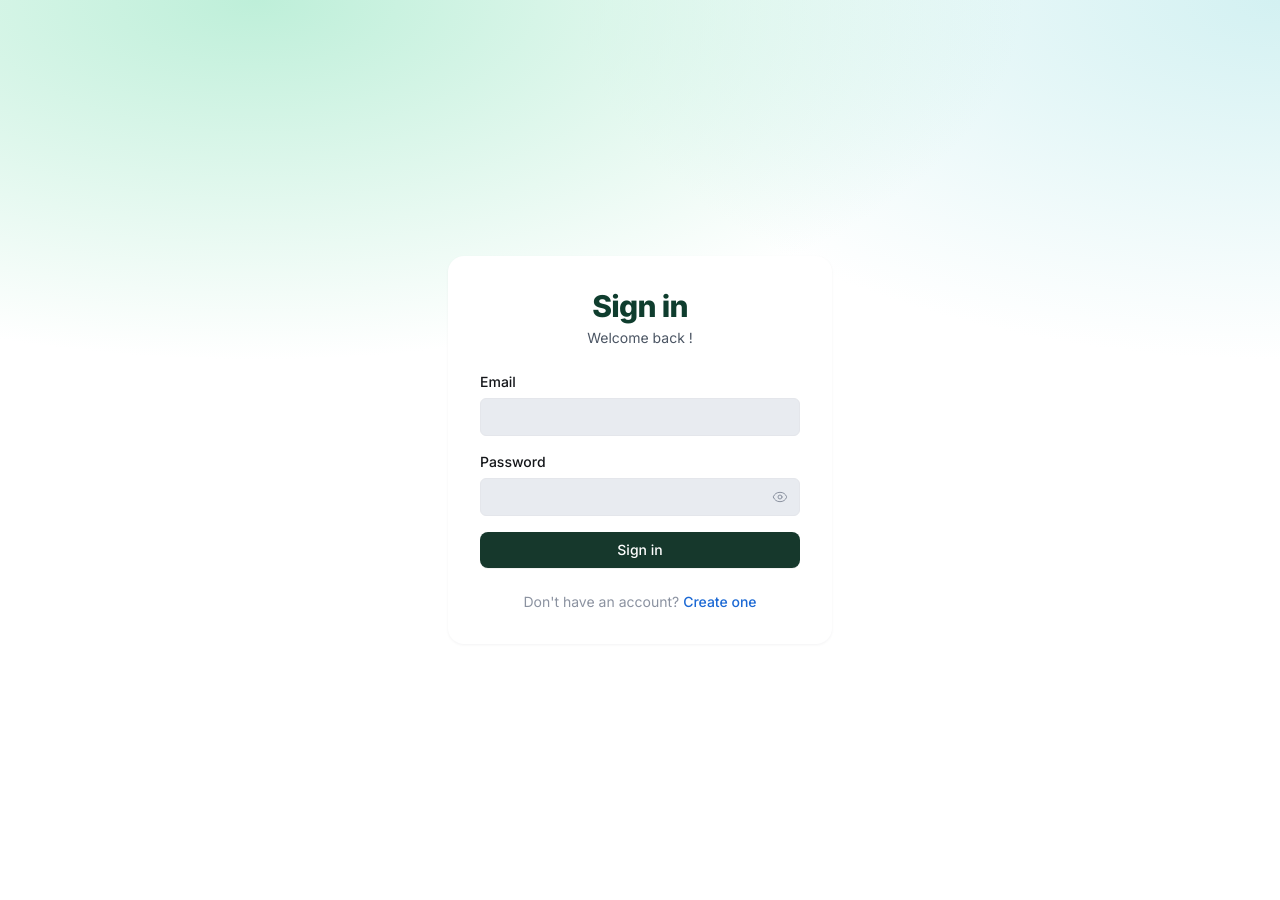
Test case: LoginPage return path › stays on the page and shows an alert when login fails
In the field labelled "Email": [640, 417] box [480,398,800,436], type "a@b.co"
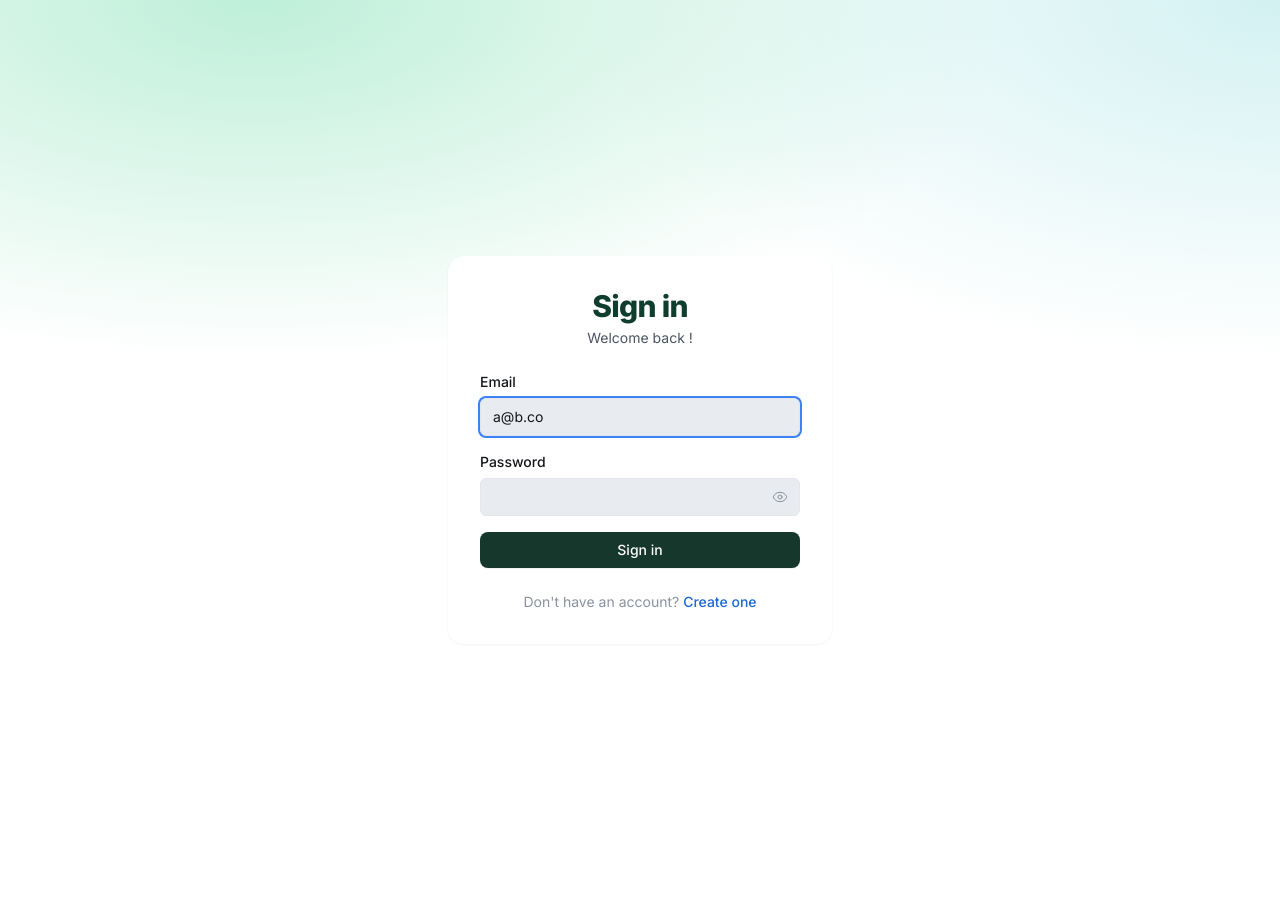
In the password field labelled "Password": [640, 497] box [480,478,800,516], type "secret-pw"
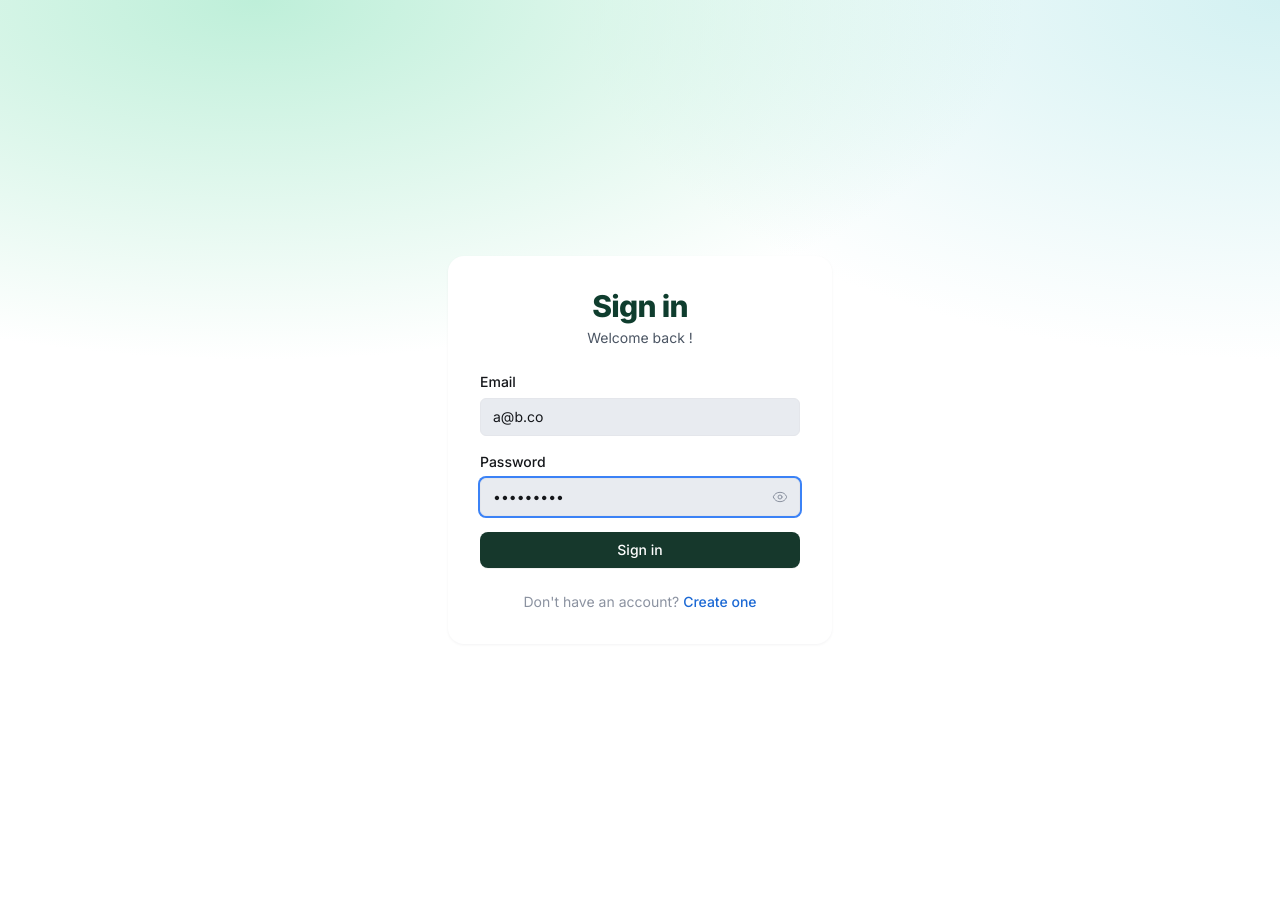
Click the button "Sign in": [640, 550] box [480,532,800,568]
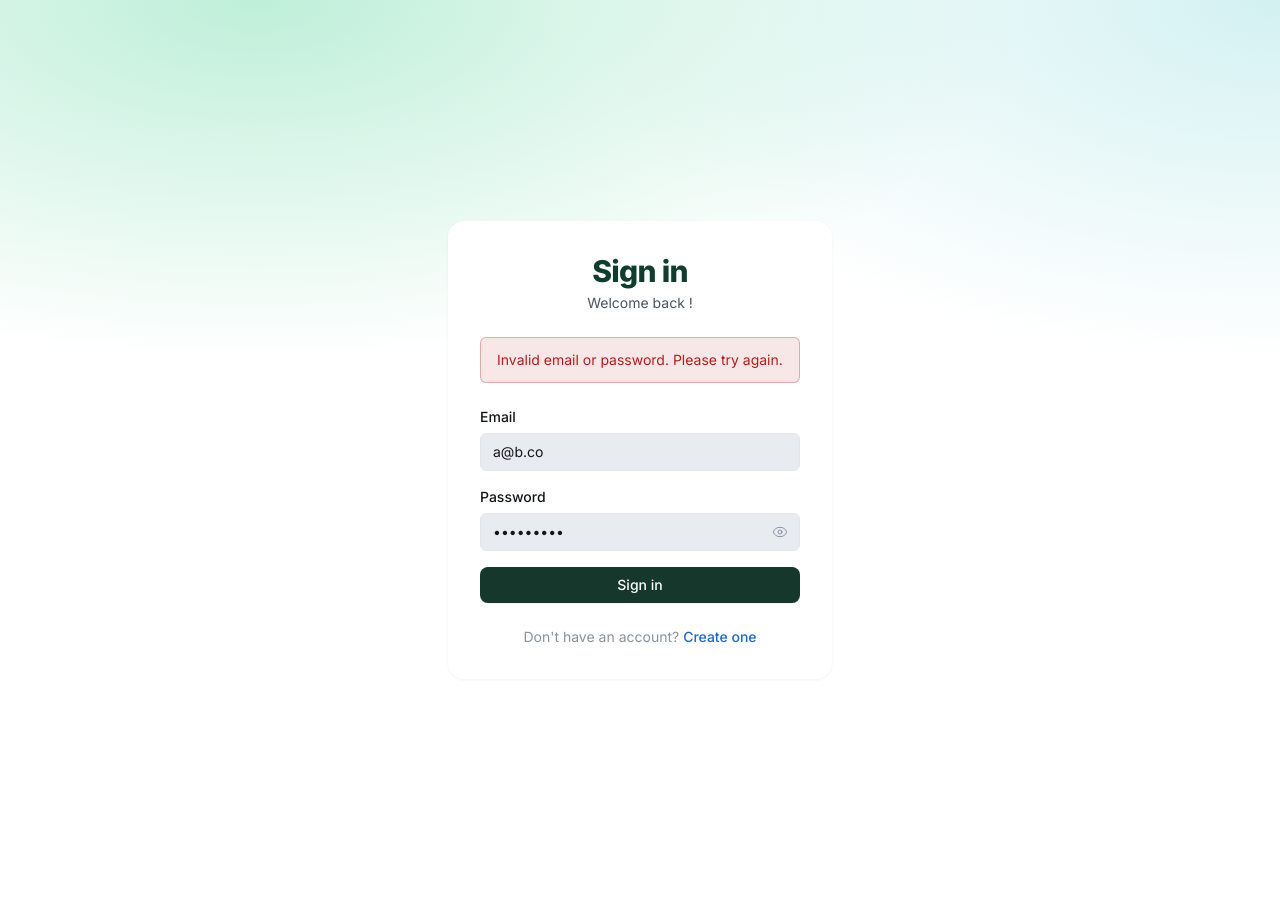
Check: the message "Invalid email or password. Please try again." is shown, box [480,337,800,383]
